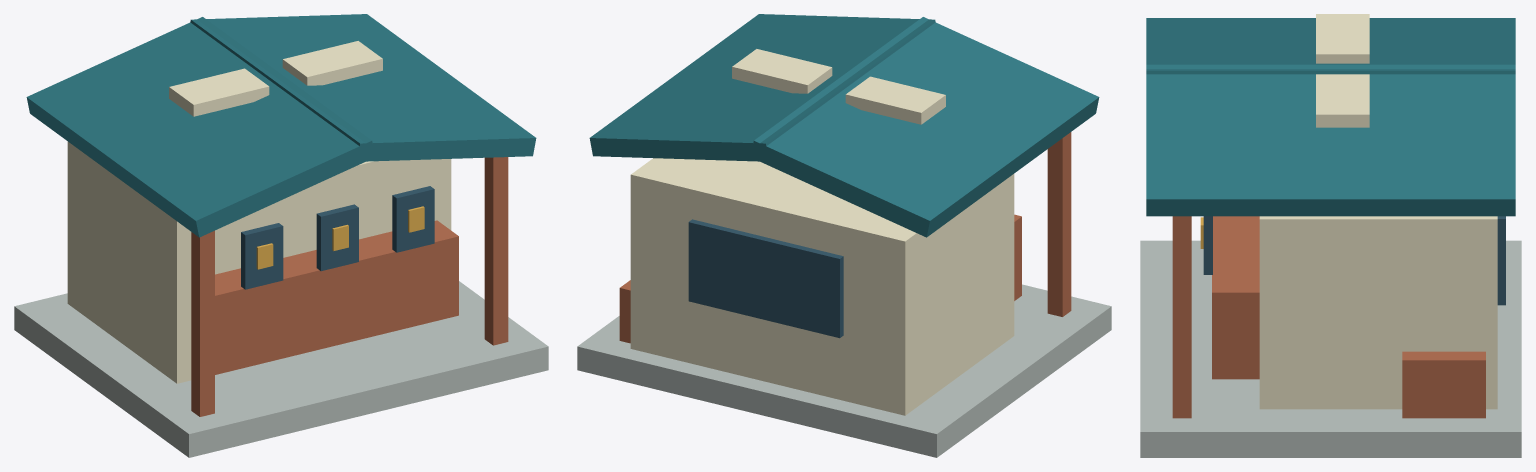
File: hill-supply.glb
The picture shows the model from 3 angles, left to right: view 1: azimuth 30°, elevation 25°; view 2: azimuth 150°, elevation 25°; view 3: azimuth 270°, elevation 25°; orthographic projection. The views are drawn at different scales.
Visible parts, largest first — view 1: hill_supply_pavilion_mesh; view 2: hill_supply_pavilion_mesh; view 3: hill_supply_pavilion_mesh.
Boxes of the visible parts, x1,y1,x2,y2 form: hill_supply_pavilion_mesh: [14, 14, 548, 457]; hill_supply_pavilion_mesh: [577, 14, 1111, 457]; hill_supply_pavilion_mesh: [1140, 14, 1521, 457].
Bounding box in the file's own units: 3.8 × 2.76 × 3.2.
